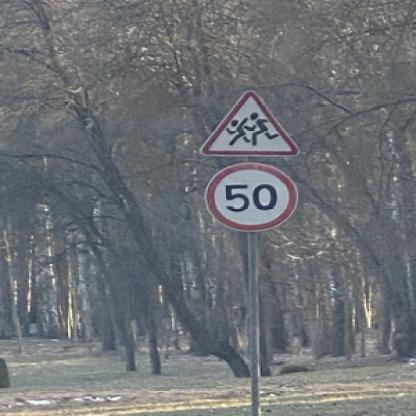speedlimit: (202, 162, 294, 230)
